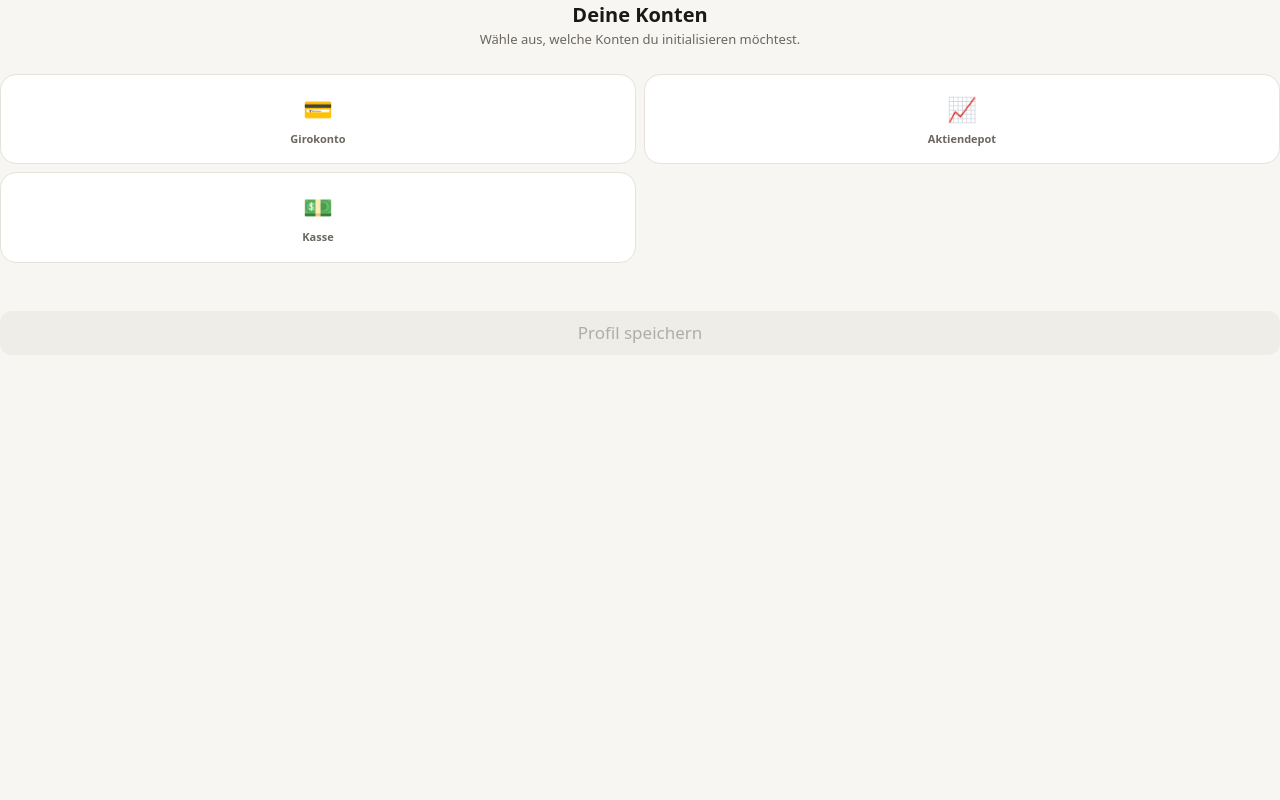
Test case: ProfileCreationForm - Saldo Validation › prevents input of more than 2 decimal places in the balance field
The width and height of the screenshot is (1280, 800).
Note: Open the modal for Girokonto
Click the text "Girokonto": click(318, 139) [290,130,346,147]
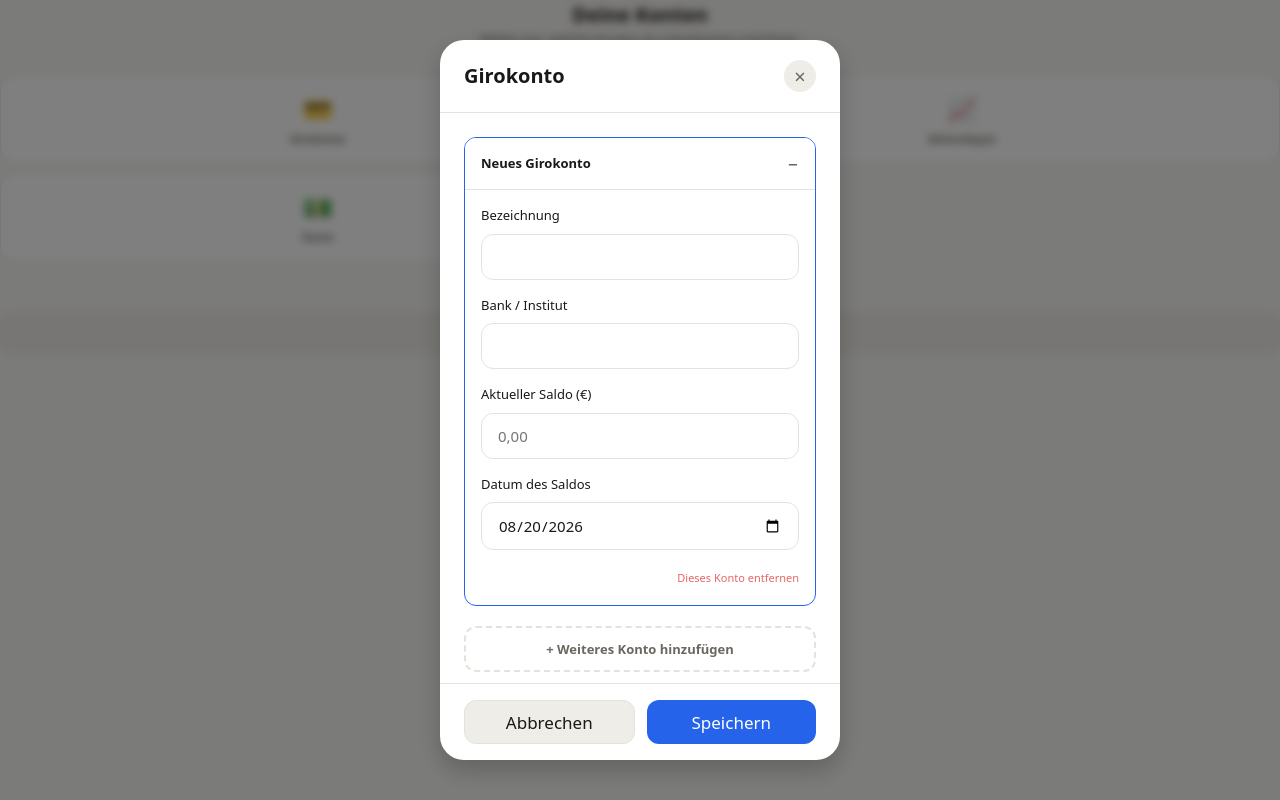
Note: Try to type "10.123"
In the field labelled "Aktueller Saldo (€)": (640, 436) [481,412,799,458], type "10.123"
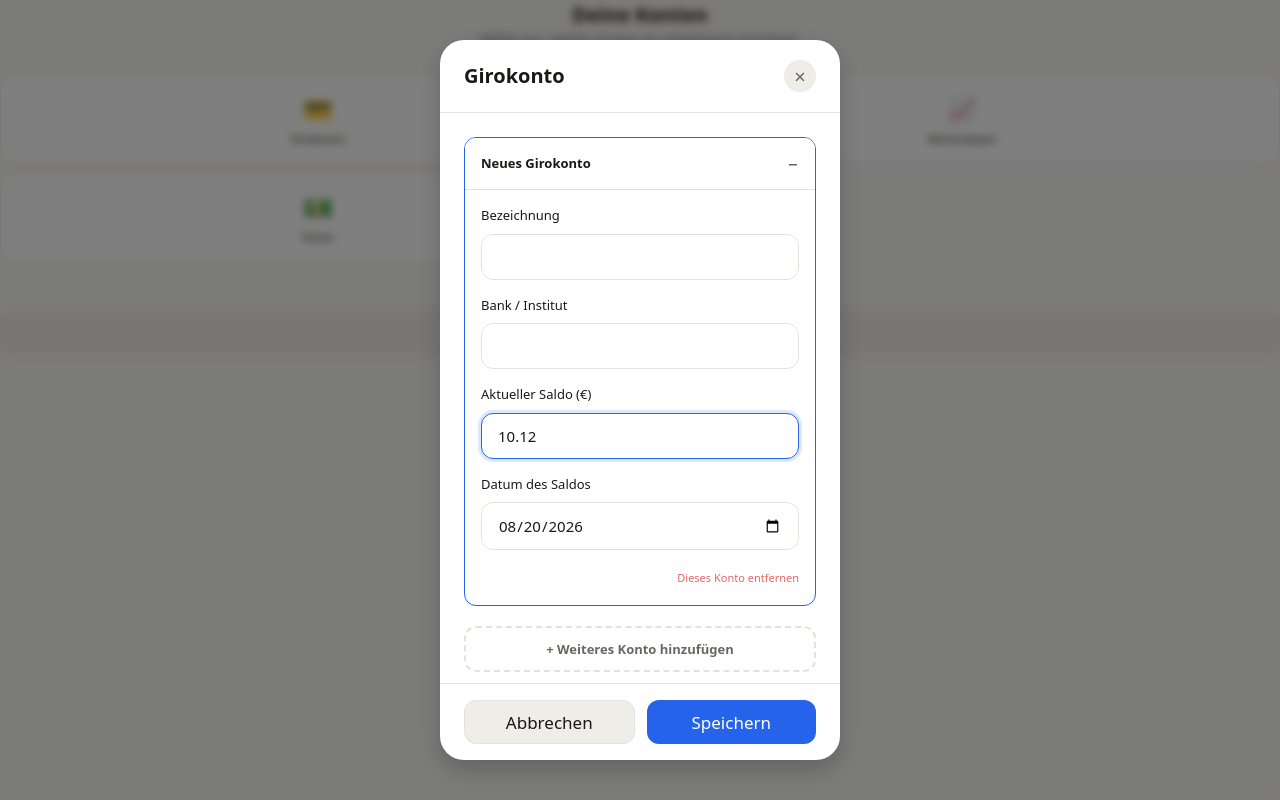
Expected: the field labelled "Aktueller Saldo (€)" holds "10.12", [481,412,799,458]
